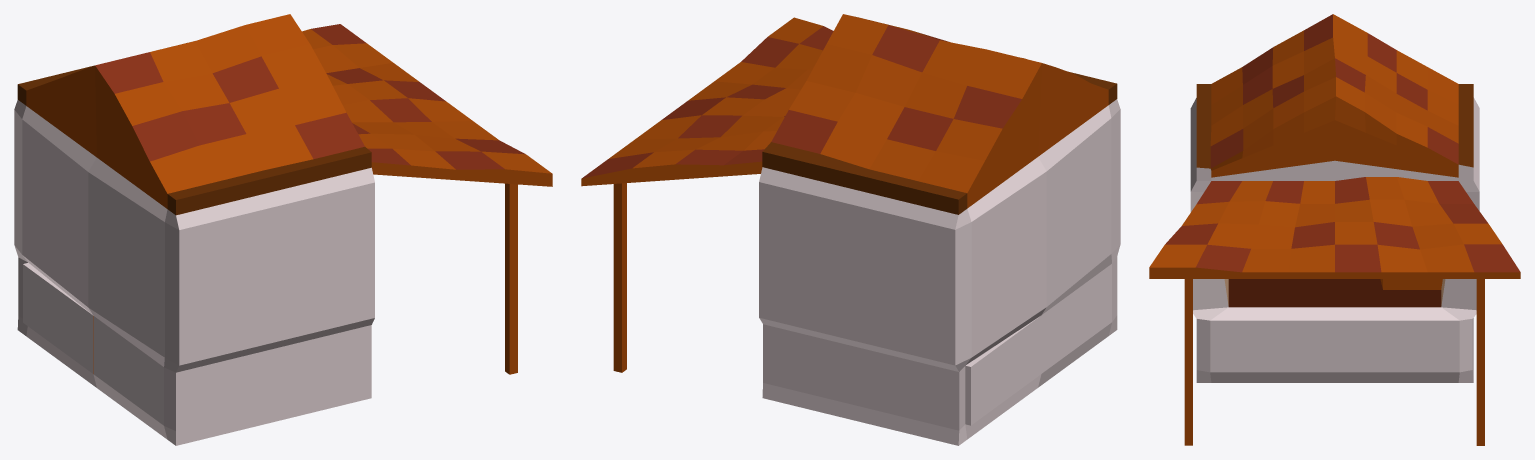
Rendered from Shop.fbx.
3 renders of one model, left to right at view 1: azimuth 30°, elevation 25°; view 2: azimuth 150°, elevation 25°; view 3: azimuth 270°, elevation 25°, orthographic. The views are drawn at different scales.
Parts seen in each view (by area): view 1: Cube; view 2: Cube; view 3: Cube.
Boxes of the visible parts, bbox=[...] form: Cube: bbox=[14, 14, 552, 445]; Cube: bbox=[581, 14, 1120, 445]; Cube: bbox=[1149, 14, 1520, 445].
Size of the model in its own units: 1830 by 1610 by 1877.
